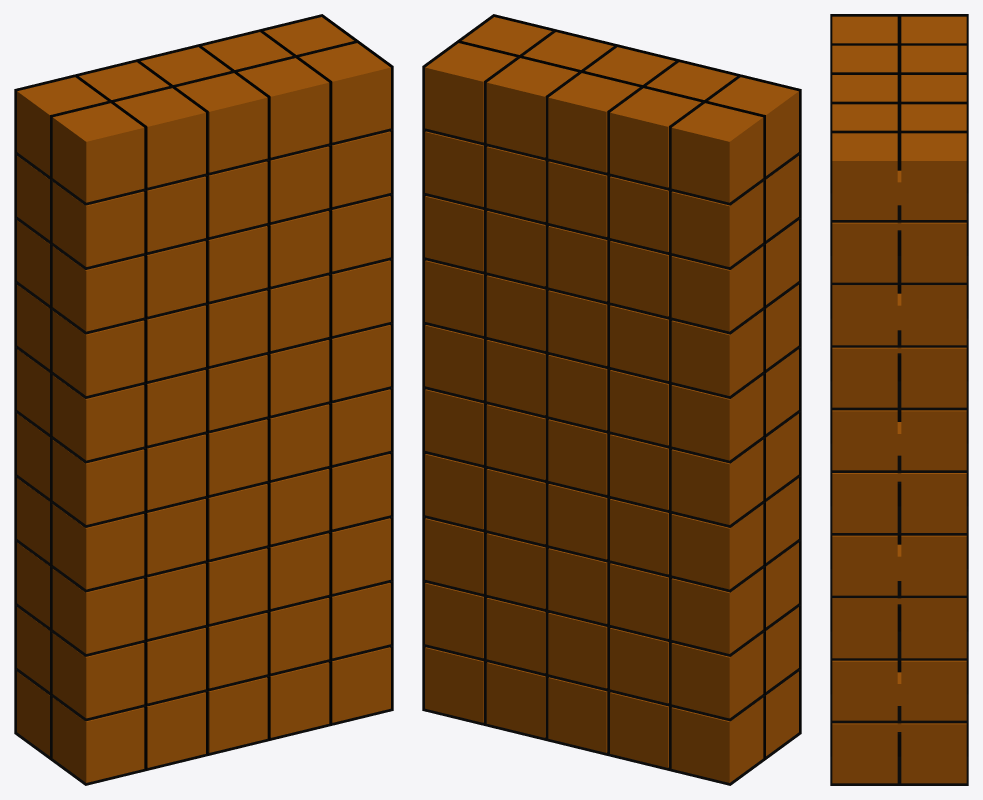
Rendered from Breaking Door.fbx.
3 renders of one model, left to right at view 1: azimuth 30°, elevation 25°; view 2: azimuth 150°, elevation 25°; view 3: azimuth 270°, elevation 25°, orthographic. The views are drawn at different scales.
Visible parts, largest first — view 1: polySurface431, polySurface396, polySurface421, polySurface410, polySurface32, polySurface380, polySurface406, polySurface350, polySurface360, polySurface371, polySurface432, polySurface420 (+52 smaller); view 2: polySurface423, polySurface382, polySurface435, polySurface394, polySurface345, polySurface419, polySurface397, polySurface359, polySurface379, polySurface362, polySurface427, polySurface426 (+52 smaller); view 3: polySurface425, polySurface433, polySurface384, polySurface389, polySurface428, polySurface437, polySurface352, polySurface357, polySurface364, polySurface369, polySurface372, polySurface377 (+16 smaller).
Boxes of the visible parts, x1,y1,x2,y2 form: polySurface431: (50, 100, 146, 205); polySurface396: (50, 309, 146, 398); polySurface421: (50, 180, 146, 269); polySurface410: (50, 244, 146, 334); polySurface32: (50, 696, 146, 785); polySurface380: (50, 438, 146, 527); polySurface406: (50, 373, 146, 463); polySurface350: (50, 631, 146, 721); polySurface360: (50, 567, 146, 656); polySurface371: (50, 502, 146, 592); polySurface432: (173, 70, 270, 175); polySurface420: (235, 55, 331, 160); polySurface423: (669, 100, 765, 205); polySurface382: (669, 309, 765, 398); polySurface435: (669, 180, 765, 269); polySurface394: (669, 244, 765, 334); polySurface345: (669, 696, 765, 785); polySurface419: (669, 438, 765, 527); polySurface397: (669, 373, 765, 463); polySurface359: (669, 631, 765, 721); polySurface379: (669, 567, 765, 656); polySurface362: (669, 502, 765, 592); polySurface427: (545, 70, 642, 175); polySurface426: (484, 55, 580, 160); polySurface425: (899, 130, 968, 222); polySurface433: (830, 130, 899, 222); polySurface384: (899, 347, 968, 410); polySurface389: (830, 347, 899, 410); polySurface428: (830, 222, 899, 285); polySurface437: (899, 222, 968, 285); polySurface352: (830, 660, 899, 723); polySurface357: (899, 660, 968, 723); polySurface364: (899, 535, 968, 598); polySurface369: (830, 535, 899, 598); polySurface372: (830, 598, 899, 660); polySurface377: (899, 598, 968, 660).
Size of the model in its own units: 5 by 10 by 2.
